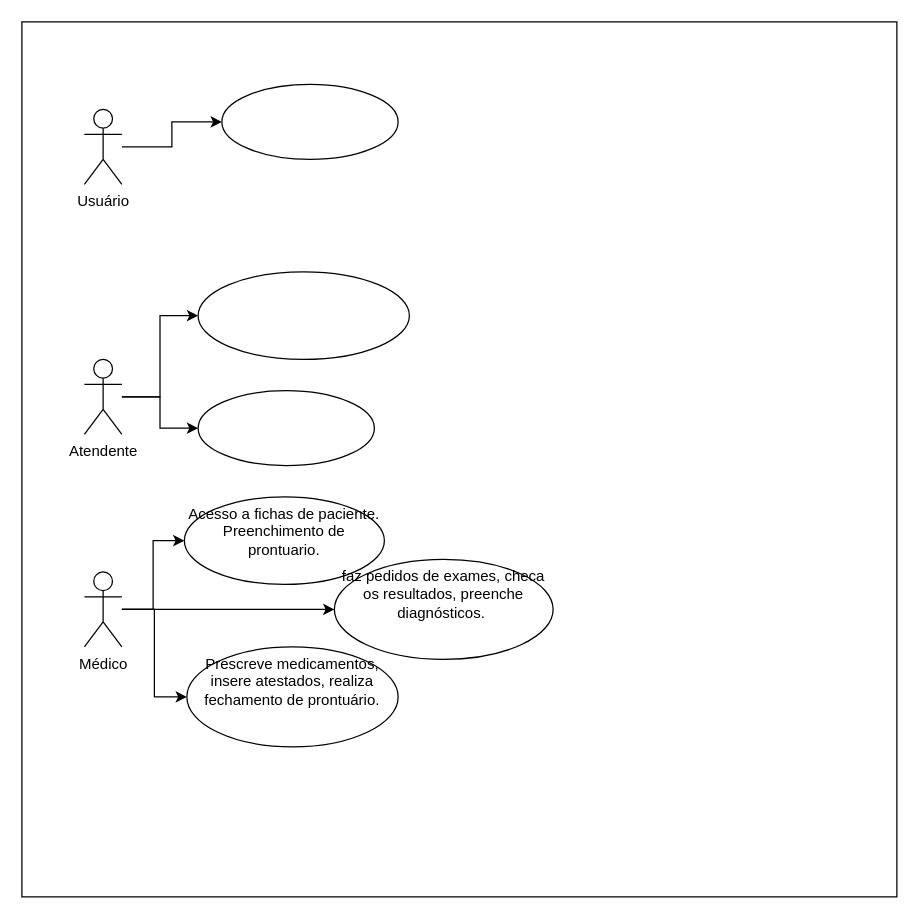
Image size: 919x919. Some labels were removed from this diagram. The shapes that lost their labels are listed below. From the top down, each one's centre as x and y in pixels, then its label:
At pixel 309 121: "Realiza cadastro, Faz abertura de atendimento.".
At pixel 303 315: ". Realiza a abertura de ficha e cadastro de dados do paciente.".
At pixel 285 427: "Marca, altera e desmarca consultas no sistema.".
